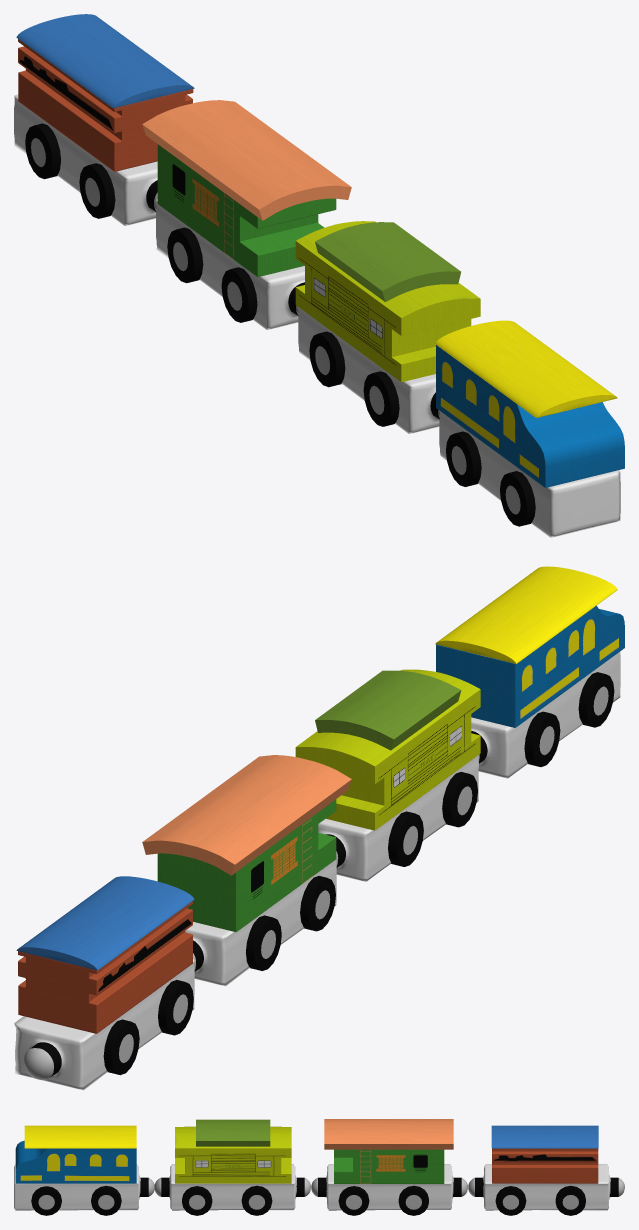
The model's file is Train_Set_Blue_Final.fbx.
3 renders of one model, top to bottom at view 1: azimuth 30°, elevation 25°; view 2: azimuth 150°, elevation 25°; view 3: azimuth 270°, elevation 25°, orthographic. The views are drawn at different scales.
Visible parts, largest first — view 1: Train_Set_Blue; view 2: Train_Set_Blue; view 3: Train_Set_Blue.
Part boxes in pixels (x1,y1,x2,y2): Train_Set_Blue: (14, 14, 624, 537); Train_Set_Blue: (14, 566, 624, 1090); Train_Set_Blue: (14, 1119, 624, 1215).
Size of the model in its own units: 6.65 by 9.61 by 68.75.
